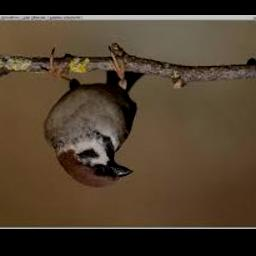Sparrow: (44, 47, 145, 188)
